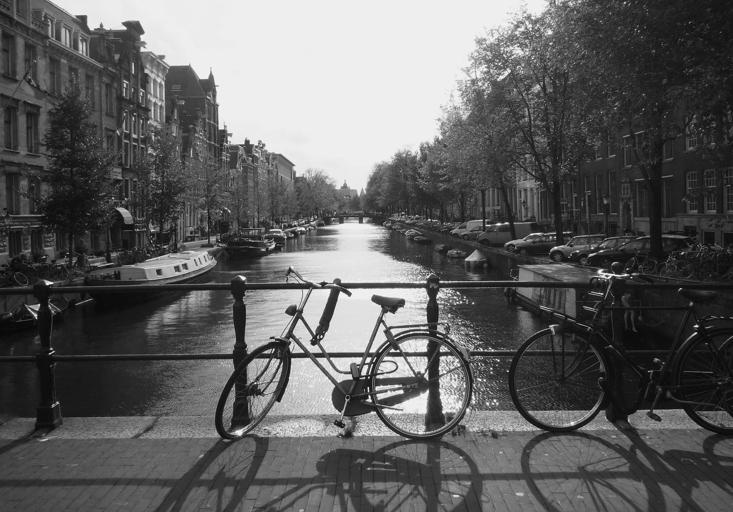non-vehicle: (214, 265, 474, 440), (508, 258, 731, 436)
